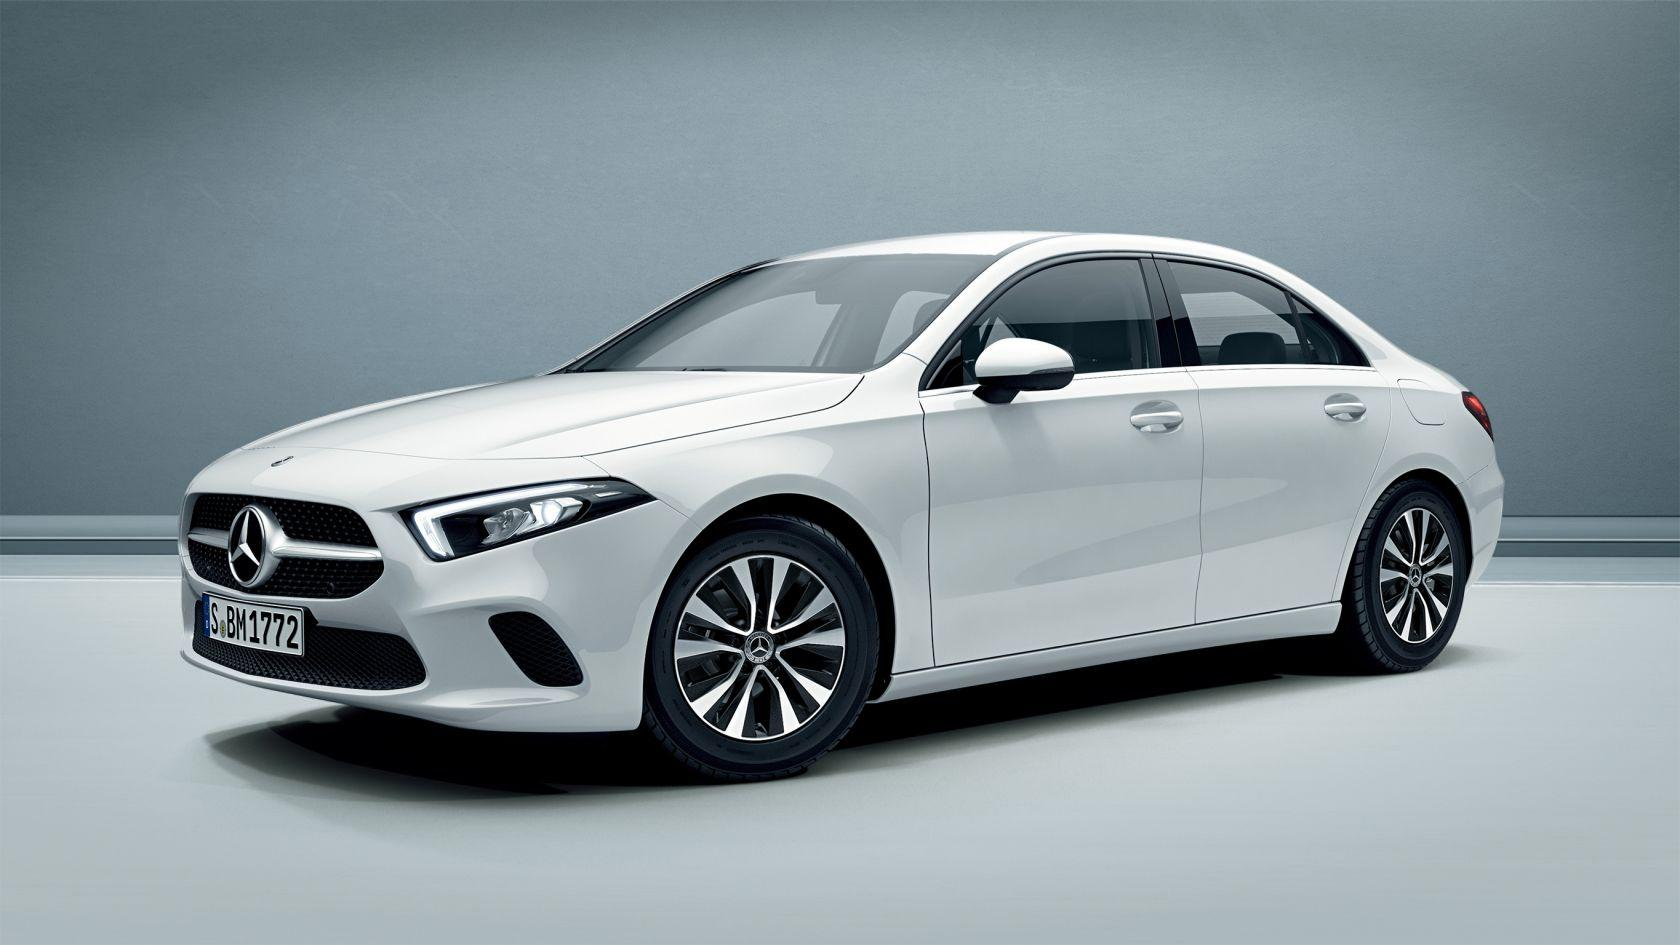car: (177, 223, 1501, 751)
